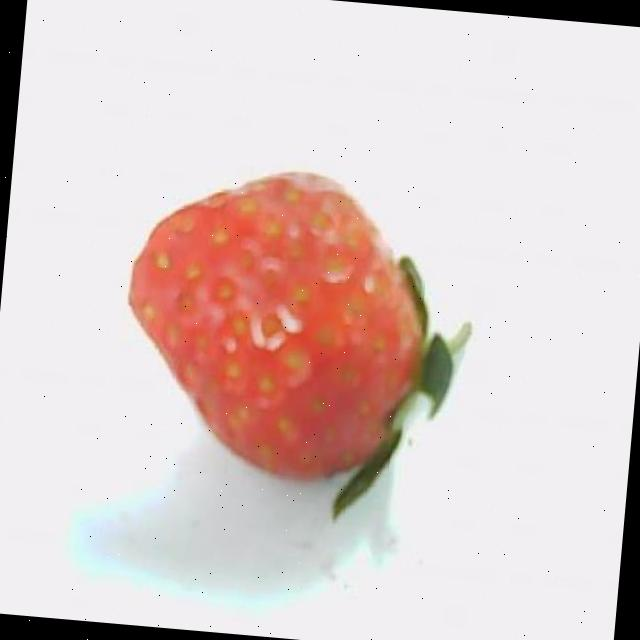strawberry: (129, 172, 471, 517)
